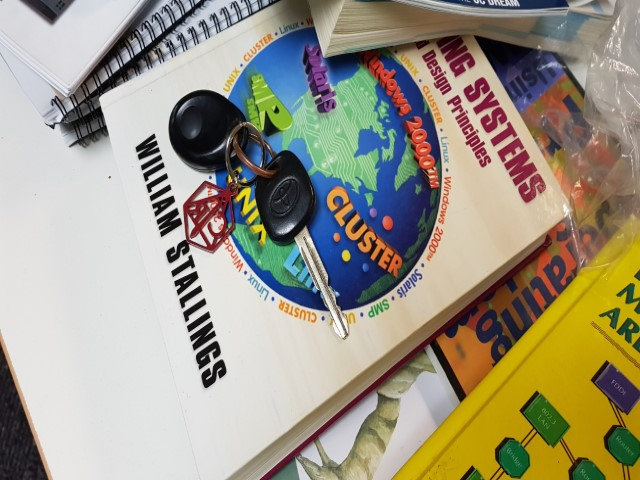key: (254, 150, 351, 339)
